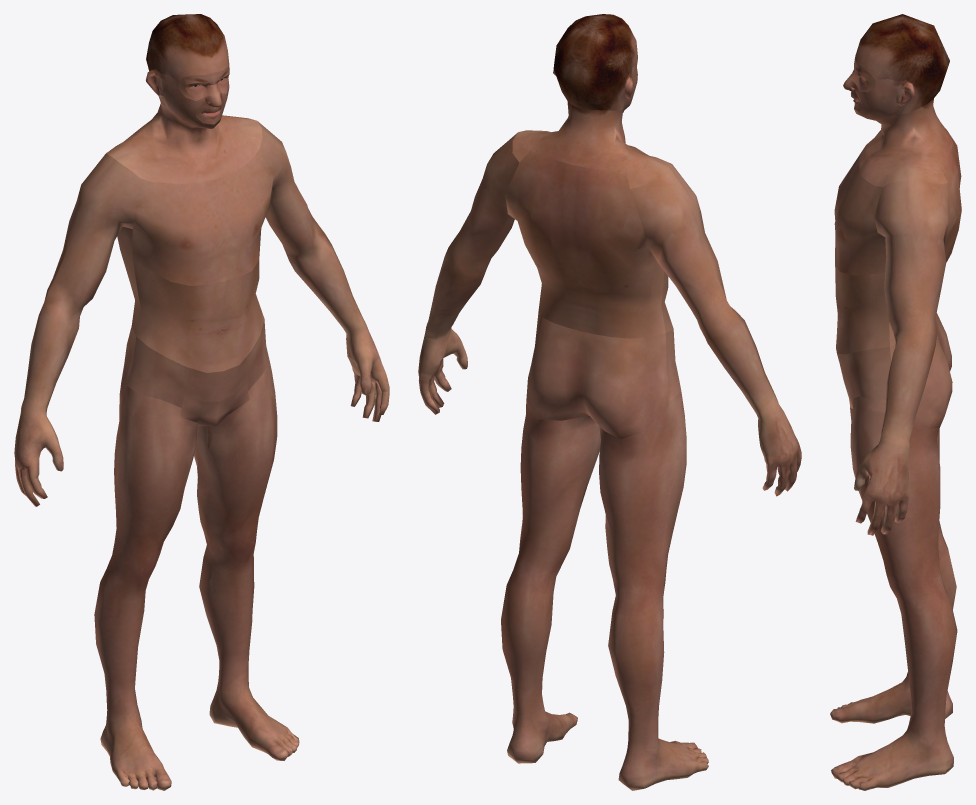
Rendered from moxing.obj.
3 renders of one model, left to right at view 1: azimuth 30°, elevation 25°; view 2: azimuth 150°, elevation 25°; view 3: azimuth 270°, elevation 25°, orthographic. The views are drawn at different scales.
Parts seen in each view (by area): view 1: xiazhi, shangzhi, xiongbu, xxxxx, fubu, gupen, toubu, miniaoshengzhi; view 2: xiazhi, shangzhi, xxxxx, beibu, toubu; view 3: xiazhi, shangzhi, xxxxx, toubu, xiongbu, fubu, gupen, beibu, erduo.
Part boxes in pixels (box(x1,y1,x2,y2)): xiazhi: box(94, 372, 299, 790); shangzhi: box(14, 121, 389, 506); xiongbu: box(132, 149, 273, 285); xxxxx: box(106, 66, 271, 416); fubu: box(133, 259, 264, 372); gupen: box(127, 319, 269, 407); toubu: box(146, 14, 229, 106); miniaoshengzhi: box(180, 378, 249, 426); xiazhi: box(501, 391, 708, 790); shangzhi: box(418, 133, 801, 496); xxxxx: box(512, 56, 681, 439); beibu: box(505, 150, 655, 338); toubu: box(553, 14, 637, 110); xiazhi: box(830, 407, 957, 790); shangzhi: box(854, 179, 949, 535); xxxxx: box(853, 59, 952, 428); toubu: box(855, 14, 949, 114); xiongbu: box(834, 154, 886, 275); fubu: box(835, 260, 889, 354); gupen: box(837, 346, 891, 399); beibu: box(940, 130, 961, 262); erduo: box(896, 80, 914, 105).
Bounding box in the file's own units: 95.5 × 184 × 30.04.
15 materials, 13 textured.
